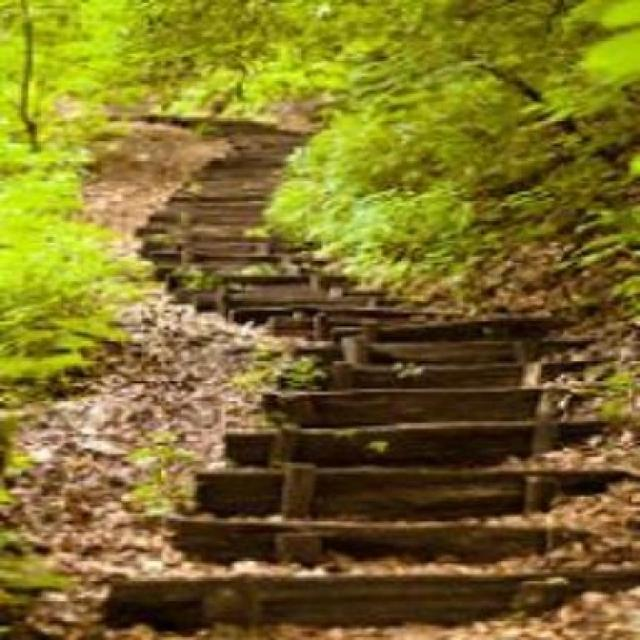stair: (83, 290, 632, 627)
